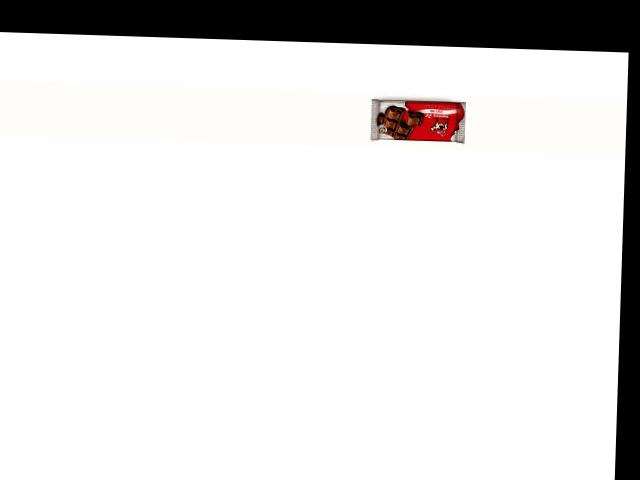chocolate: (368, 76, 482, 138)
